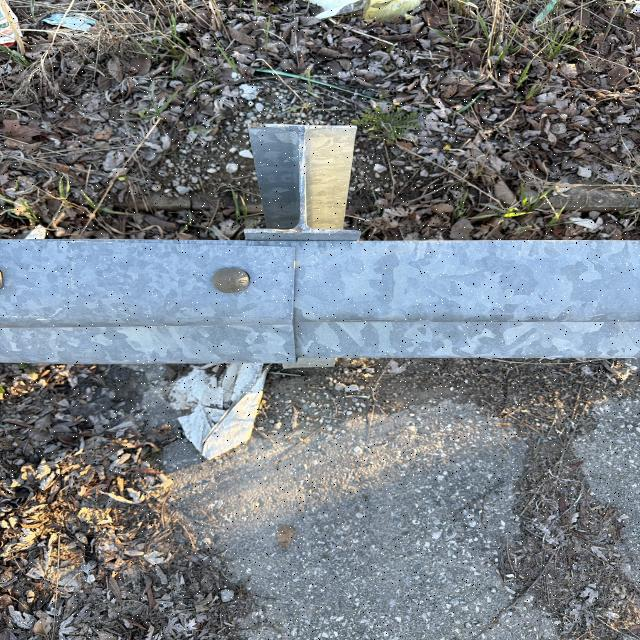Guard rail: (10, 147, 618, 354)
